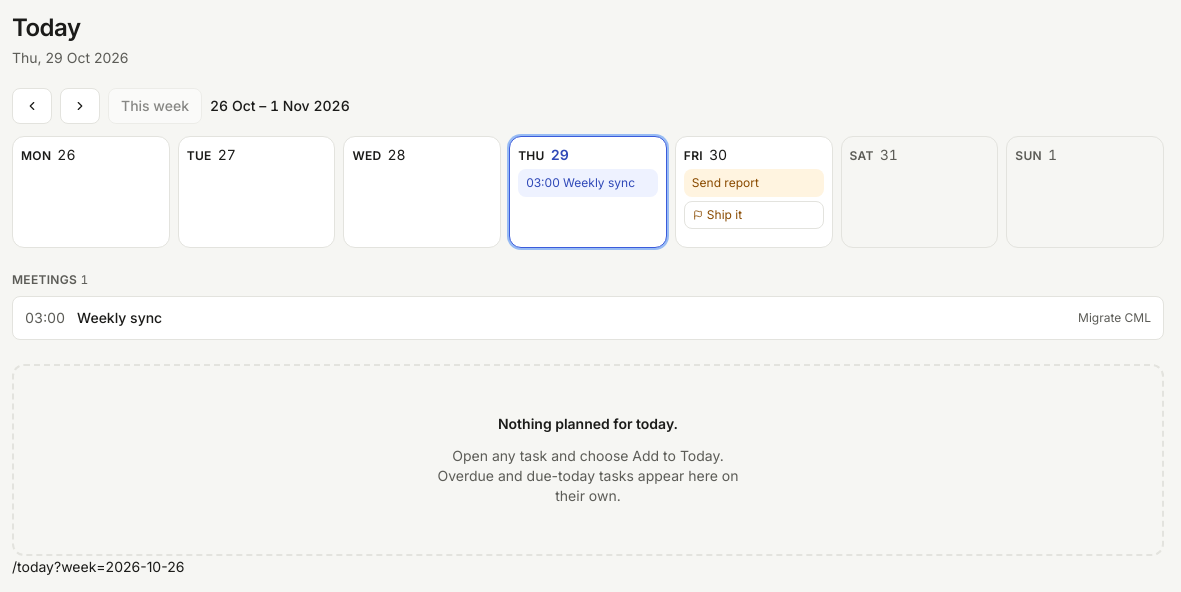
Test: Today page week view › selecting another day lists its meetings, tasks and deadlines, and keeps the week in the URL
This screenshot has width=1181, height=592.
Click the button "Fri 30": (754, 155) [684,145,824,165]
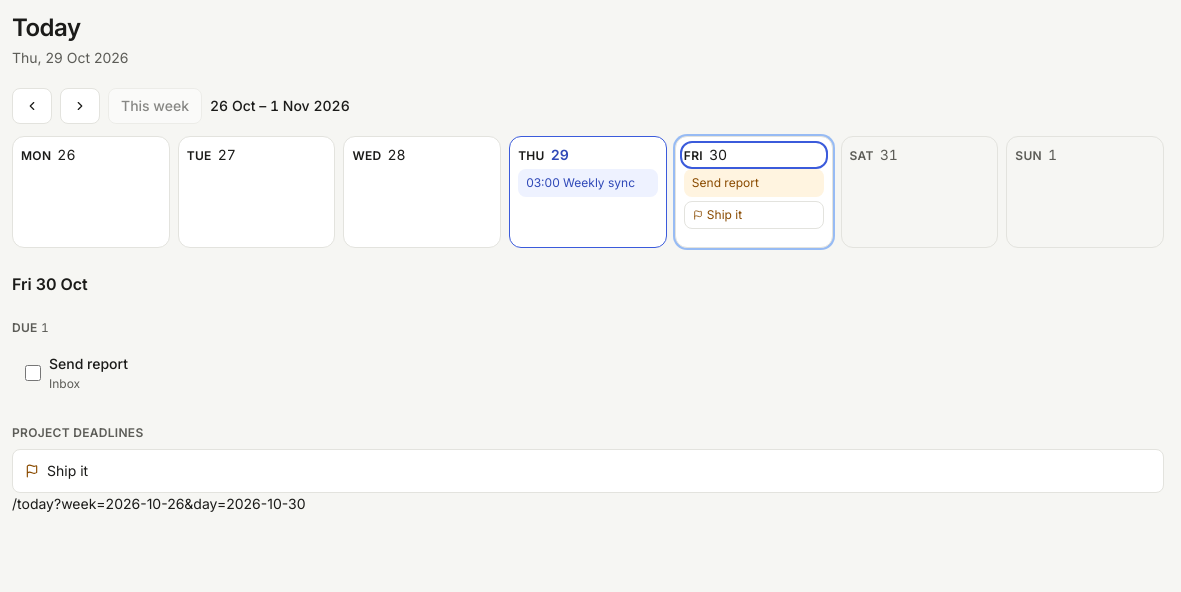
expect the text with test id "url" reads "/today?week=2026-10-26&day=2026-10-30": met, box [12,495,306,512]
expect the element named "Plan for Fri 30 Oct" shows "Send report": met, box [49,354,1151,374]
expect the element named "Plan for Fri 30 Oct" shows "Ship it": met, box [12,449,1164,493]
